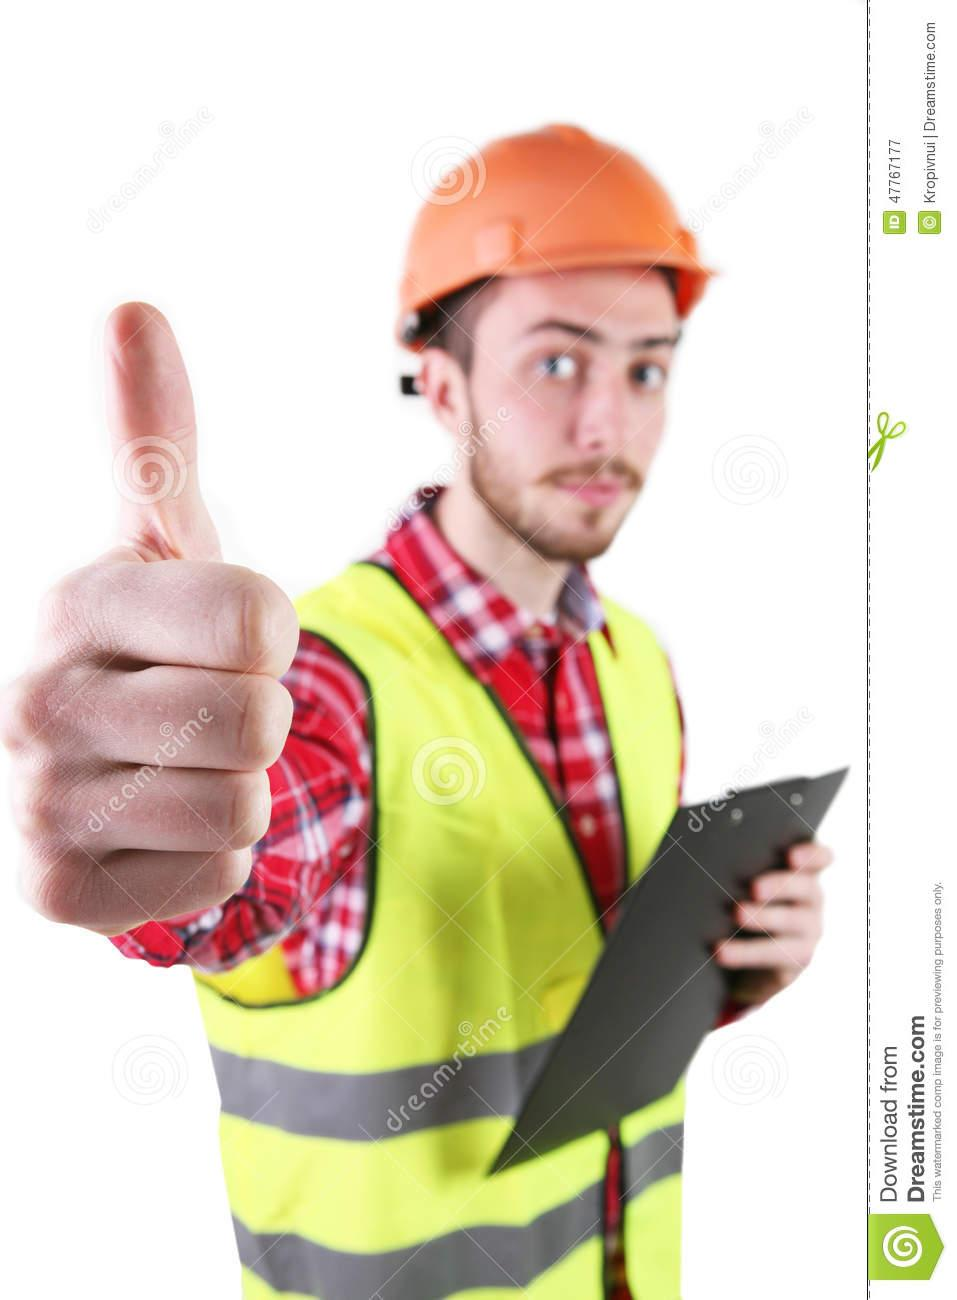helmet: (397, 122, 724, 357)
